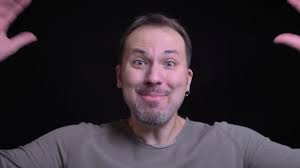white_male: (123, 40, 206, 117)
